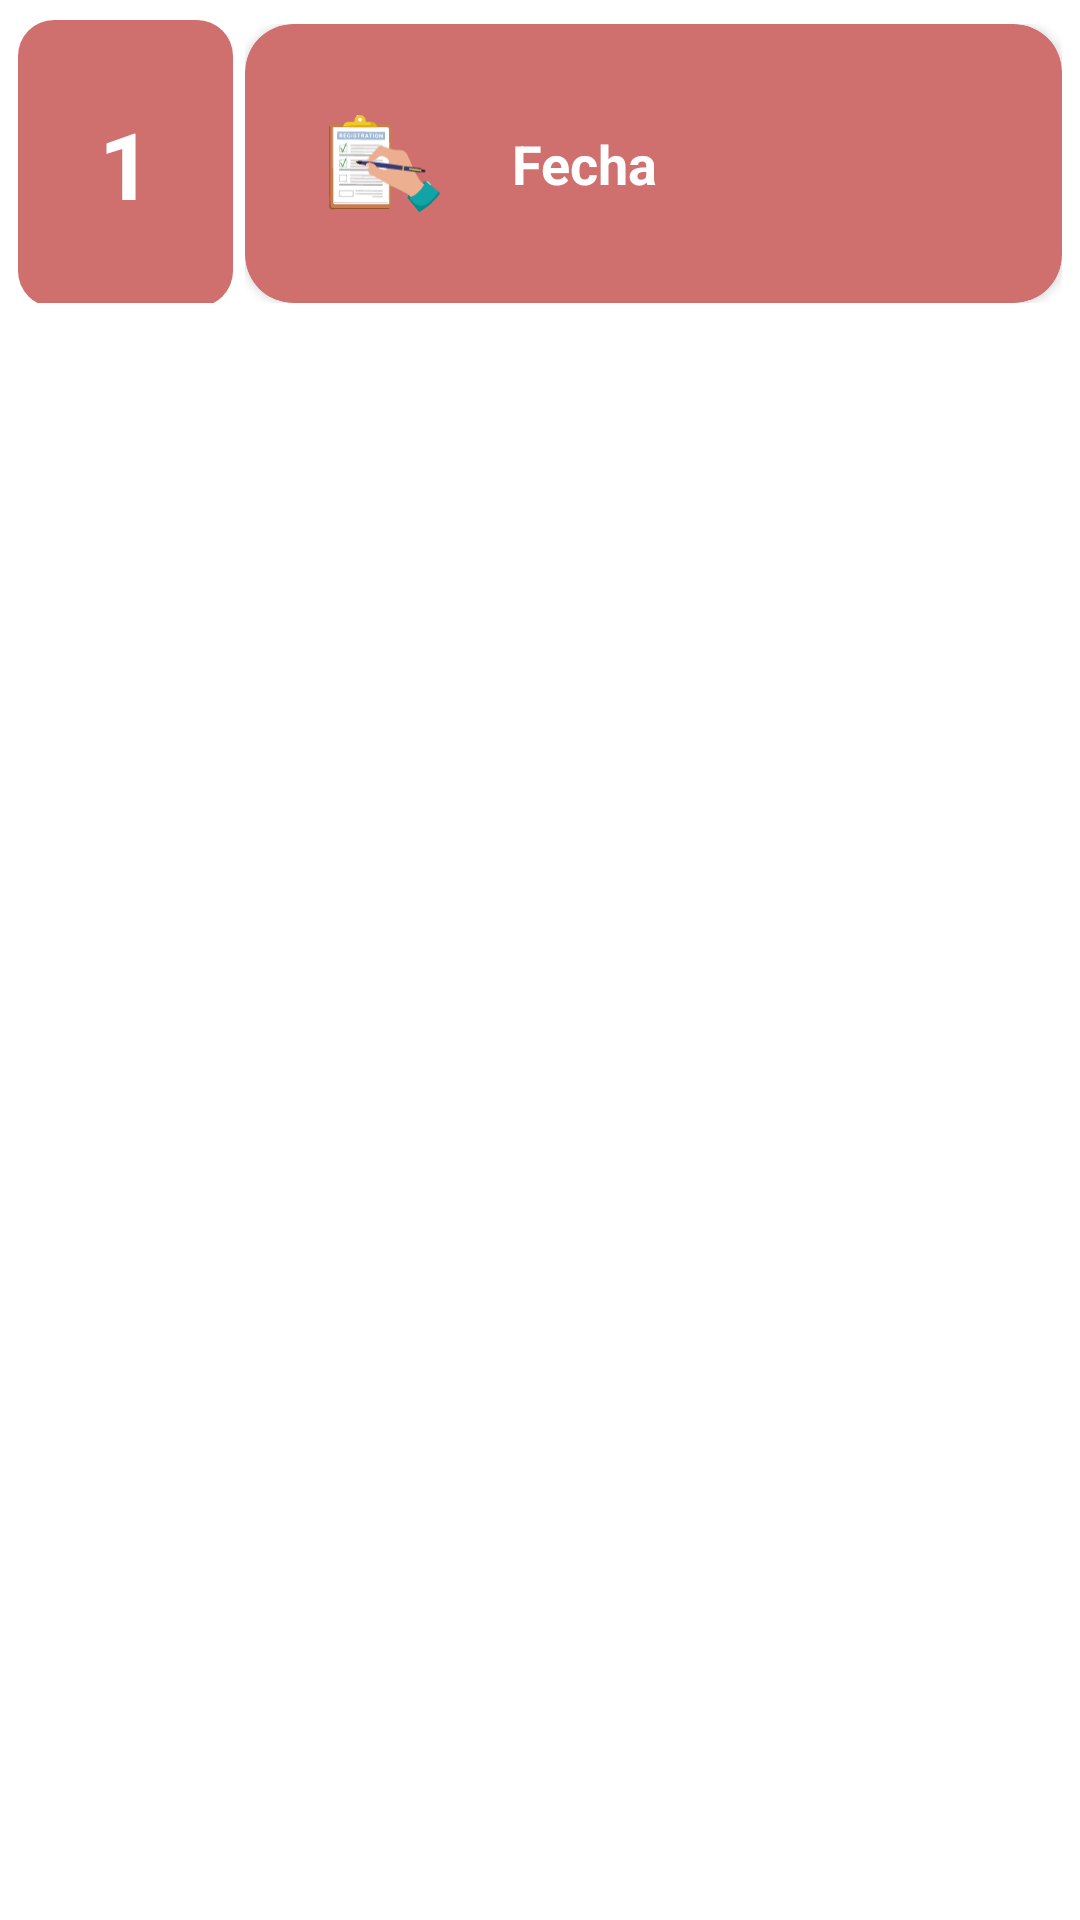

Locate icon controls on the screen. Image size 1080px×1920px, boxes as (x1, y1, x2, y2).
de asistencia: (329, 115, 440, 212)
